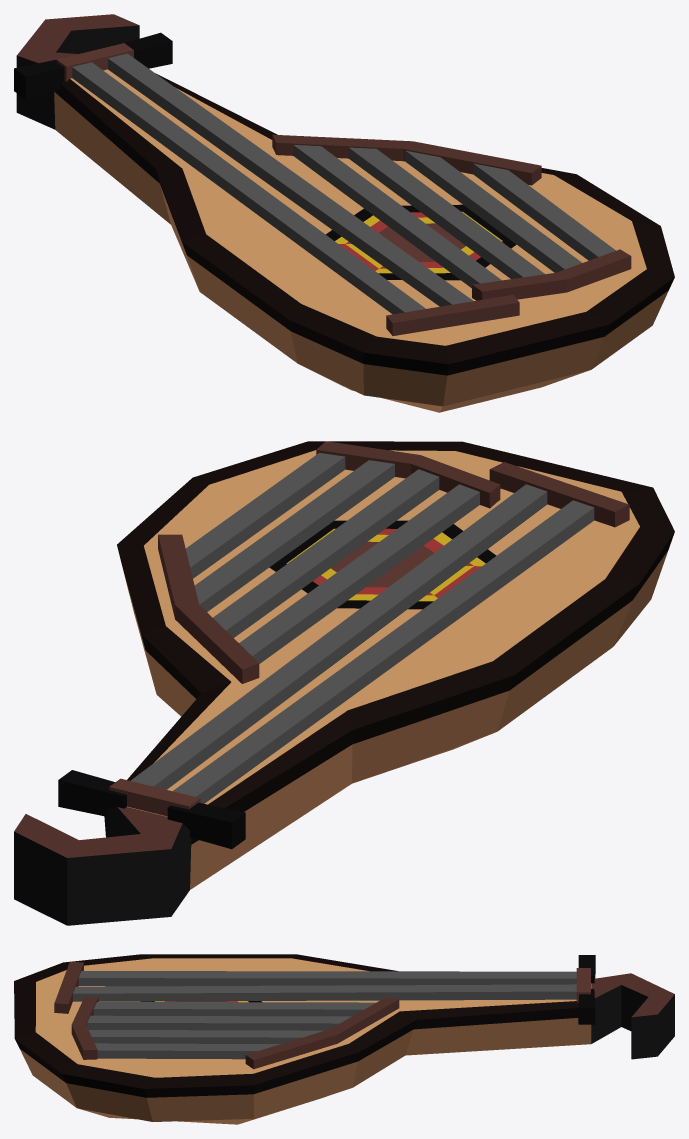
File: bandura_LOW.fbx
The picture shows the model from 3 angles, top to bottom: view 1: azimuth 30°, elevation 25°; view 2: azimuth 150°, elevation 25°; view 3: azimuth 270°, elevation 25°; orthographic projection. The views are drawn at different scales.
Parts seen in each view (by area): view 1: Bandura; view 2: Bandura; view 3: Bandura.
Part boxes in pixels (<box>): Bandura: <box>14,14,674,412</box>; Bandura: <box>14,441,674,925</box>; Bandura: <box>14,954,674,1124</box>.
Size of the model in its own units: 45.59 by 12.52 by 94.61.
